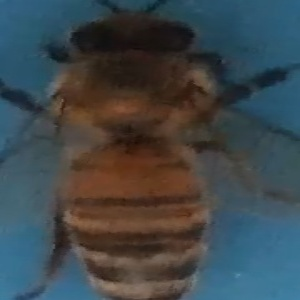bee: (5, 10, 290, 299)
